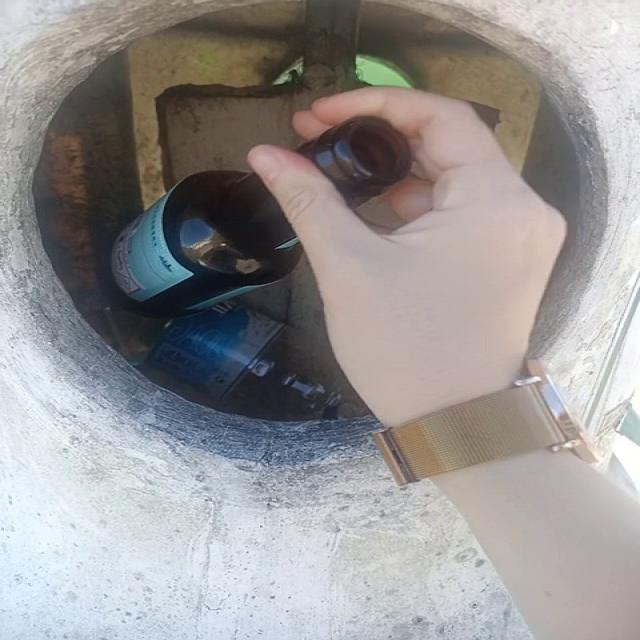glass: (111, 171, 301, 317), (296, 116, 412, 208)
